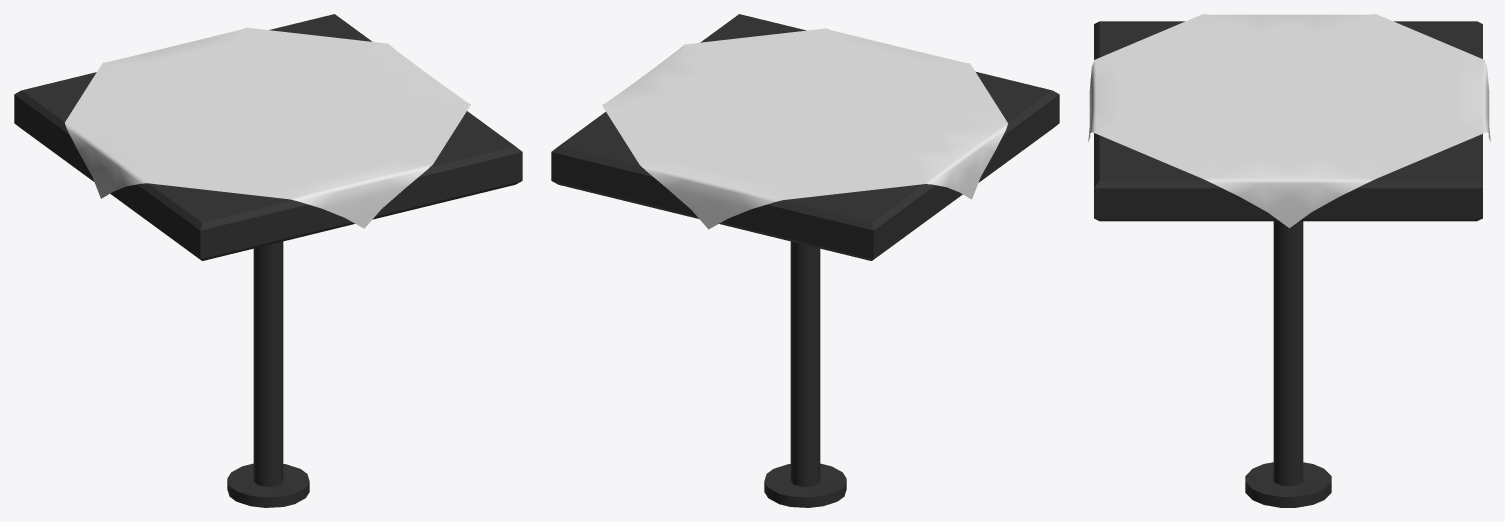
Rendered from tableopaque.fbx.
3 views of the same model, side by side, from view 1: azimuth 30°, elevation 25°; view 2: azimuth 150°, elevation 25°; view 3: azimuth 270°, elevation 25° (orthographic). The views are drawn at different scales.
Visible parts, largest first — view 1: cloth, tabletop, tablebase; view 2: cloth, tabletop, tablebase; view 3: cloth, tabletop, tablebase.
Boxes of the visible parts, x1,y1,x2,y2 form: cloth: (65, 27, 470, 228); tabletop: (14, 14, 522, 260); tablebase: (227, 241, 309, 507); cloth: (602, 28, 1007, 229); tabletop: (551, 14, 1059, 260); tablebase: (764, 241, 846, 507); cloth: (1088, 14, 1490, 227); tabletop: (1094, 21, 1482, 221); tablebase: (1245, 221, 1331, 507).
Size of the model in its own units: 2.76 by 2.97 by 2.76.
Materials: 2 (1 with a texture image).
